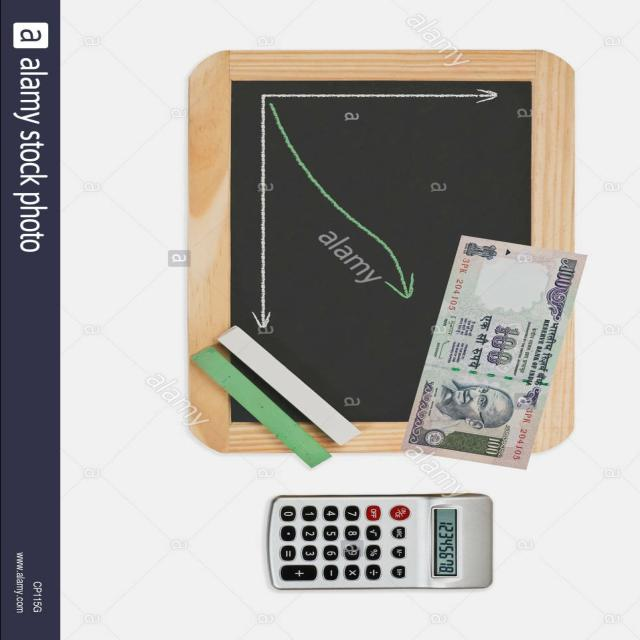100IndianRupees: (400, 235, 586, 471)
